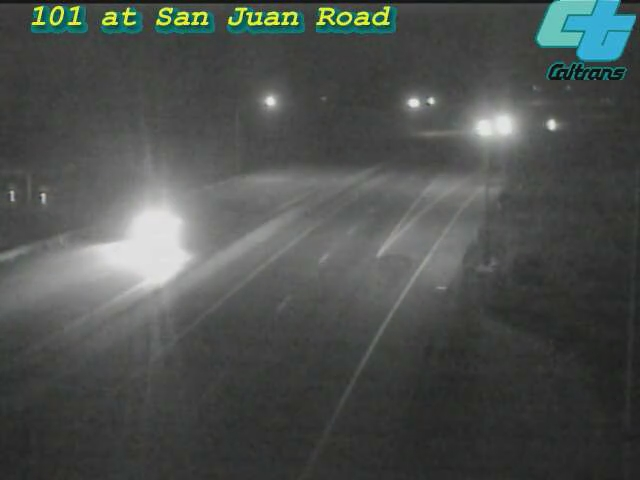vehicle: (124, 181, 204, 261), (527, 101, 577, 151), (454, 104, 504, 154), (478, 100, 528, 150)
